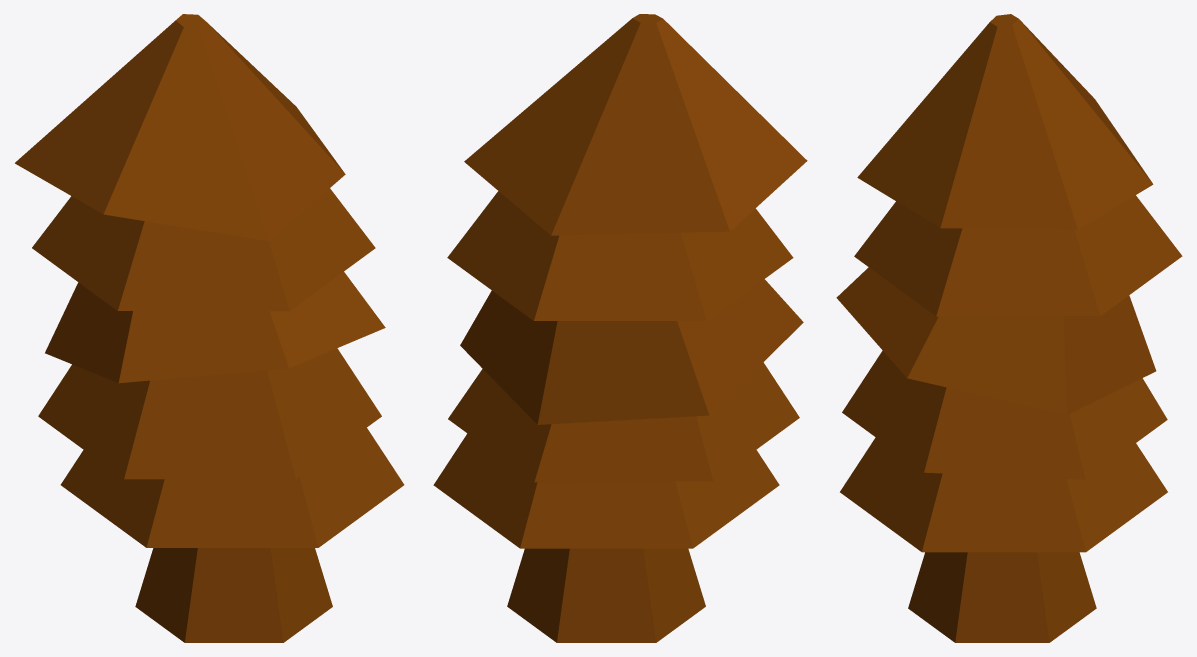
The model's file is arbol_two.fbx.
The picture shows the model from 3 angles, left to right: view 1: azimuth 30°, elevation 25°; view 2: azimuth 150°, elevation 25°; view 3: azimuth 270°, elevation 25°; orthographic projection. The views are drawn at different scales.
Visible parts, largest first — view 1: Cylinder.001, Cylinder; view 2: Cylinder.001, Cylinder; view 3: Cylinder.001, Cylinder.
Part boxes in pixels (x1=…): Cylinder.001: x1=15, y1=14, x2=404, y2=547; Cylinder: x1=135, y1=548, x2=332, y2=642; Cylinder.001: x1=433, y1=14, x2=807, y2=548; Cylinder: x1=507, y1=548, x2=705, y2=642; Cylinder.001: x1=836, y1=14, x2=1182, y2=552; Cylinder: x1=908, y1=552, x2=1096, y2=642.
Size of the model in its own units: 450 by 857 by 472.
